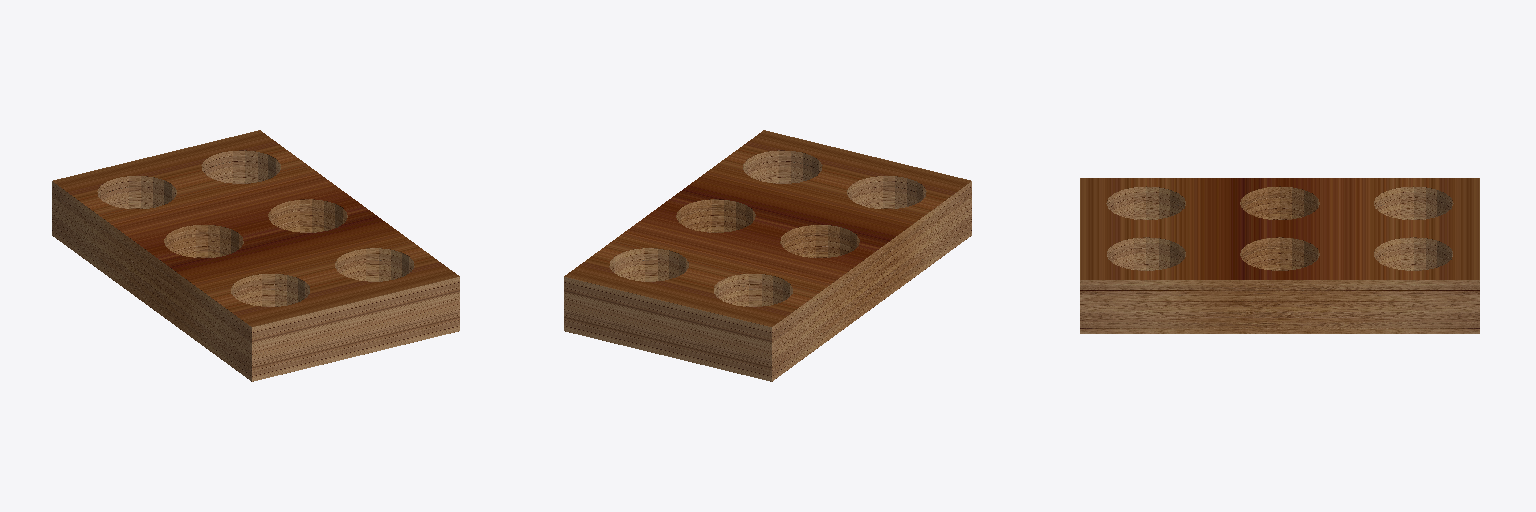
The picture shows the model from 3 angles: view 1: azimuth 30°, elevation 25°; view 2: azimuth 150°, elevation 25°; view 3: azimuth 270°, elevation 25°; orthographic projection.
Visible parts, largest first — view 1: pCube5; view 2: pCube5; view 3: pCube5.
Part boxes in pixels (left/top/right/bottom): pCube5: left=52, top=130, right=459, bottom=381; pCube5: left=564, top=130, right=971, bottom=381; pCube5: left=1080, top=178, right=1479, bottom=333.
Size of the model in its own units: 6 by 1.5 by 10.
Materials: 1 (1 with a texture image).